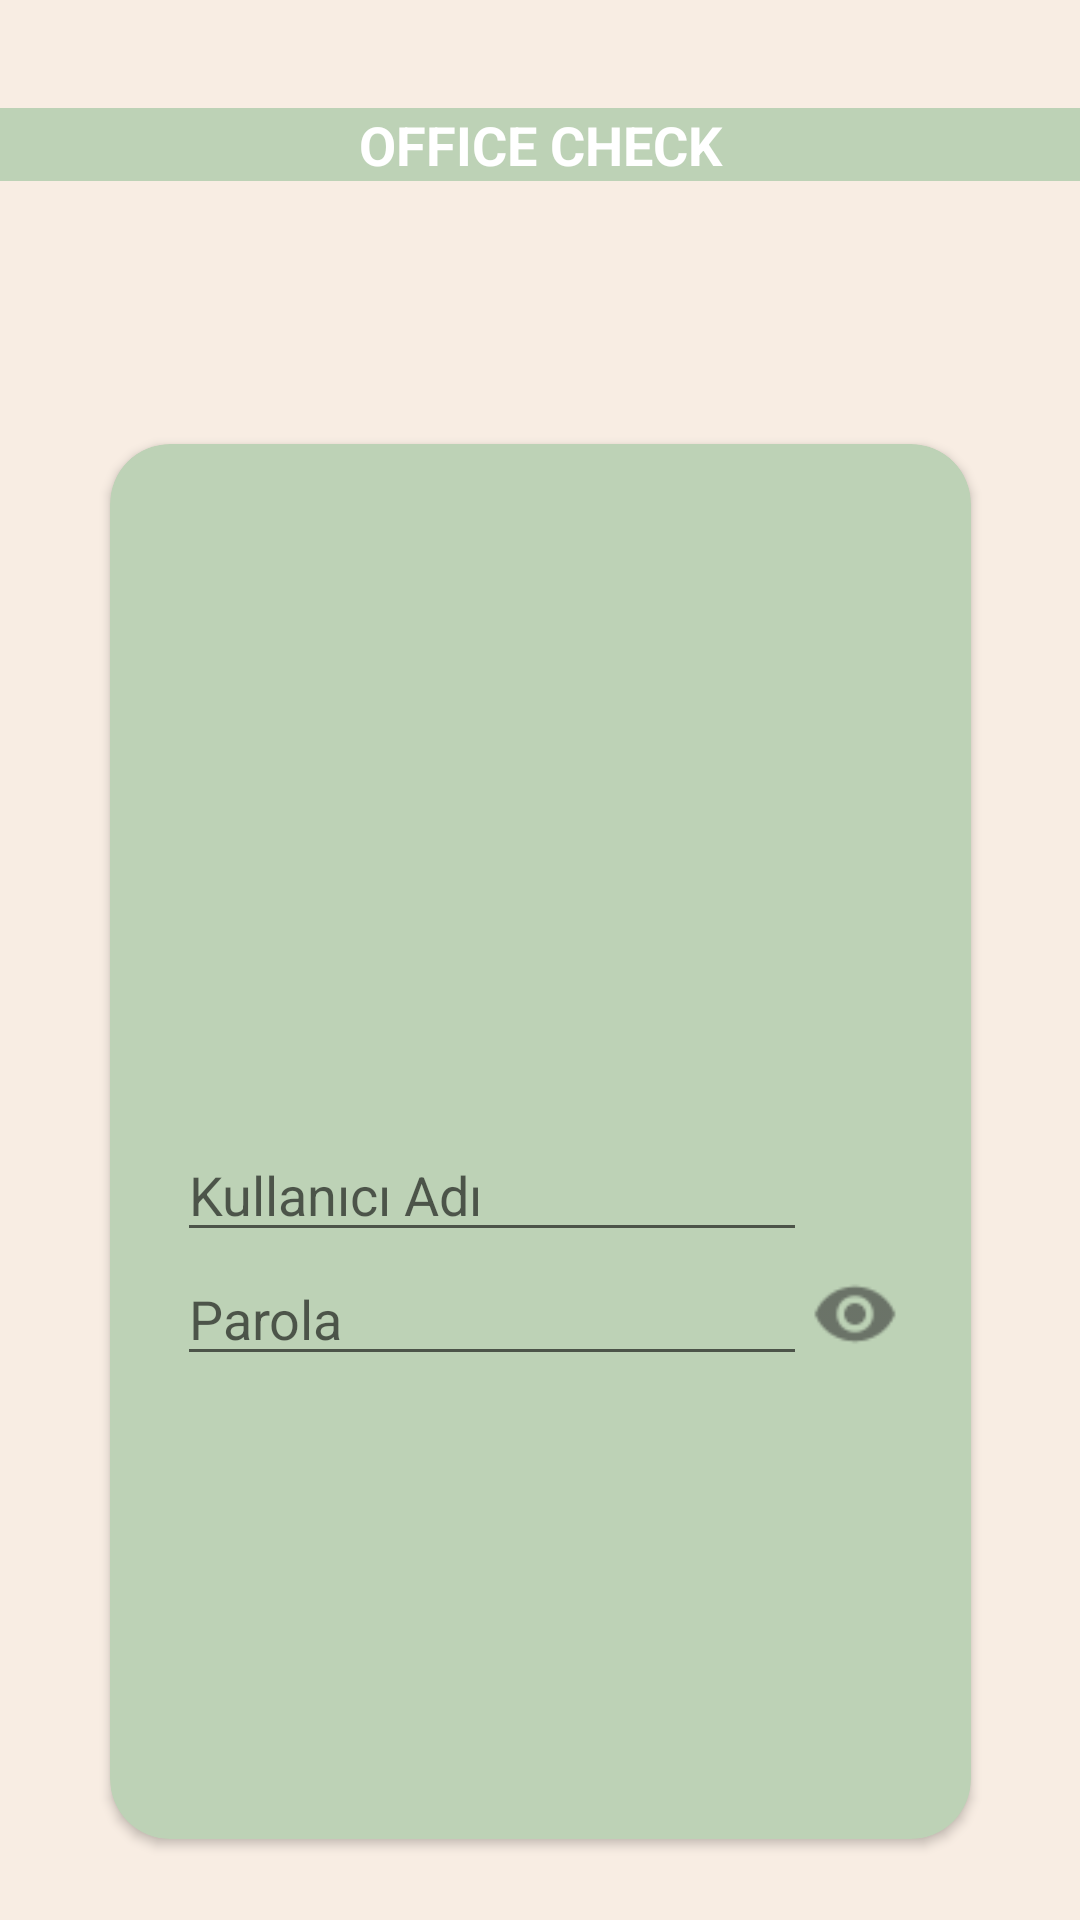

Icon click points for this 1080px x 1920px phone screenshot, format (x,y):
eye: (855,1314)
